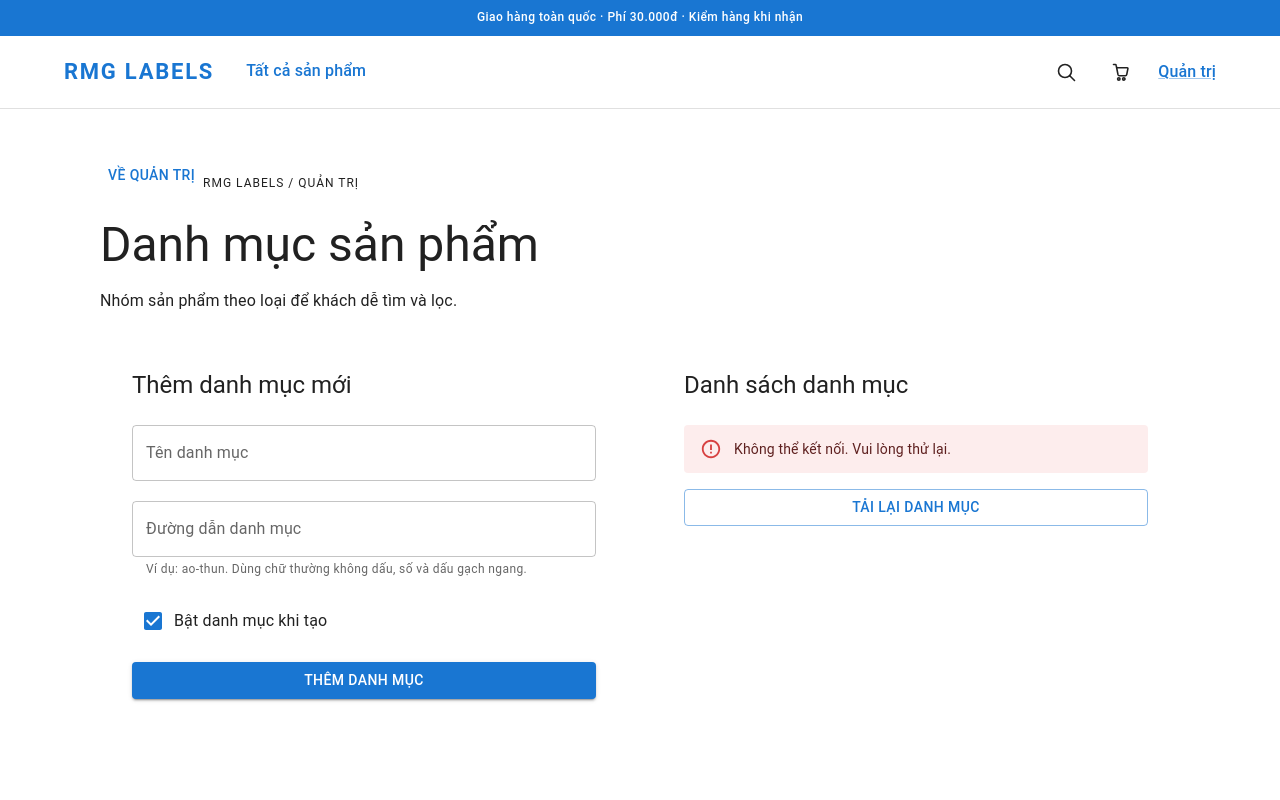
Test: admin category list and creation › offers retry after a failed list request
The image size is (1280, 800).
Expected: the text "Không thể kết nối. Vui lòng thử lại." is shown, x1=734 y1=441 x2=951 y2=457
Click the button "Tải lại danh mục": (916, 508) x1=684 y1=490 x2=1148 y2=526
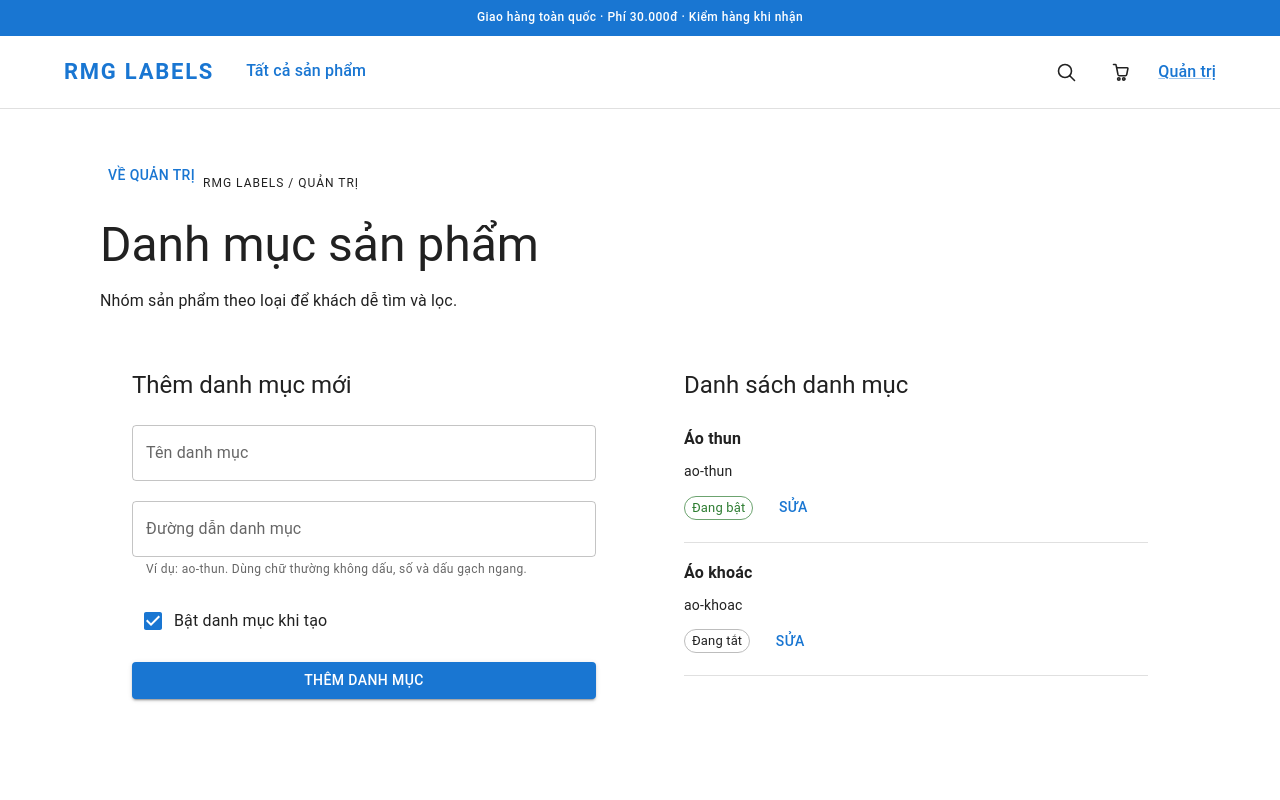
Expected: the heading "Áo thun" is shown, x1=684 y1=429 x2=741 y2=448
Expected: the text "Đang bật" is shown, x1=692 y1=500 x2=745 y2=515
Expected: the text "Đang tắt" is shown, x1=692 y1=634 x2=742 y2=648
